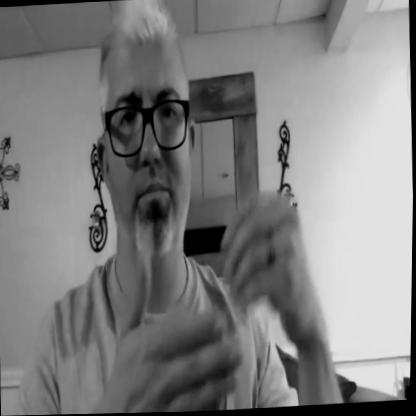Expensive: (95, 177, 322, 414)
